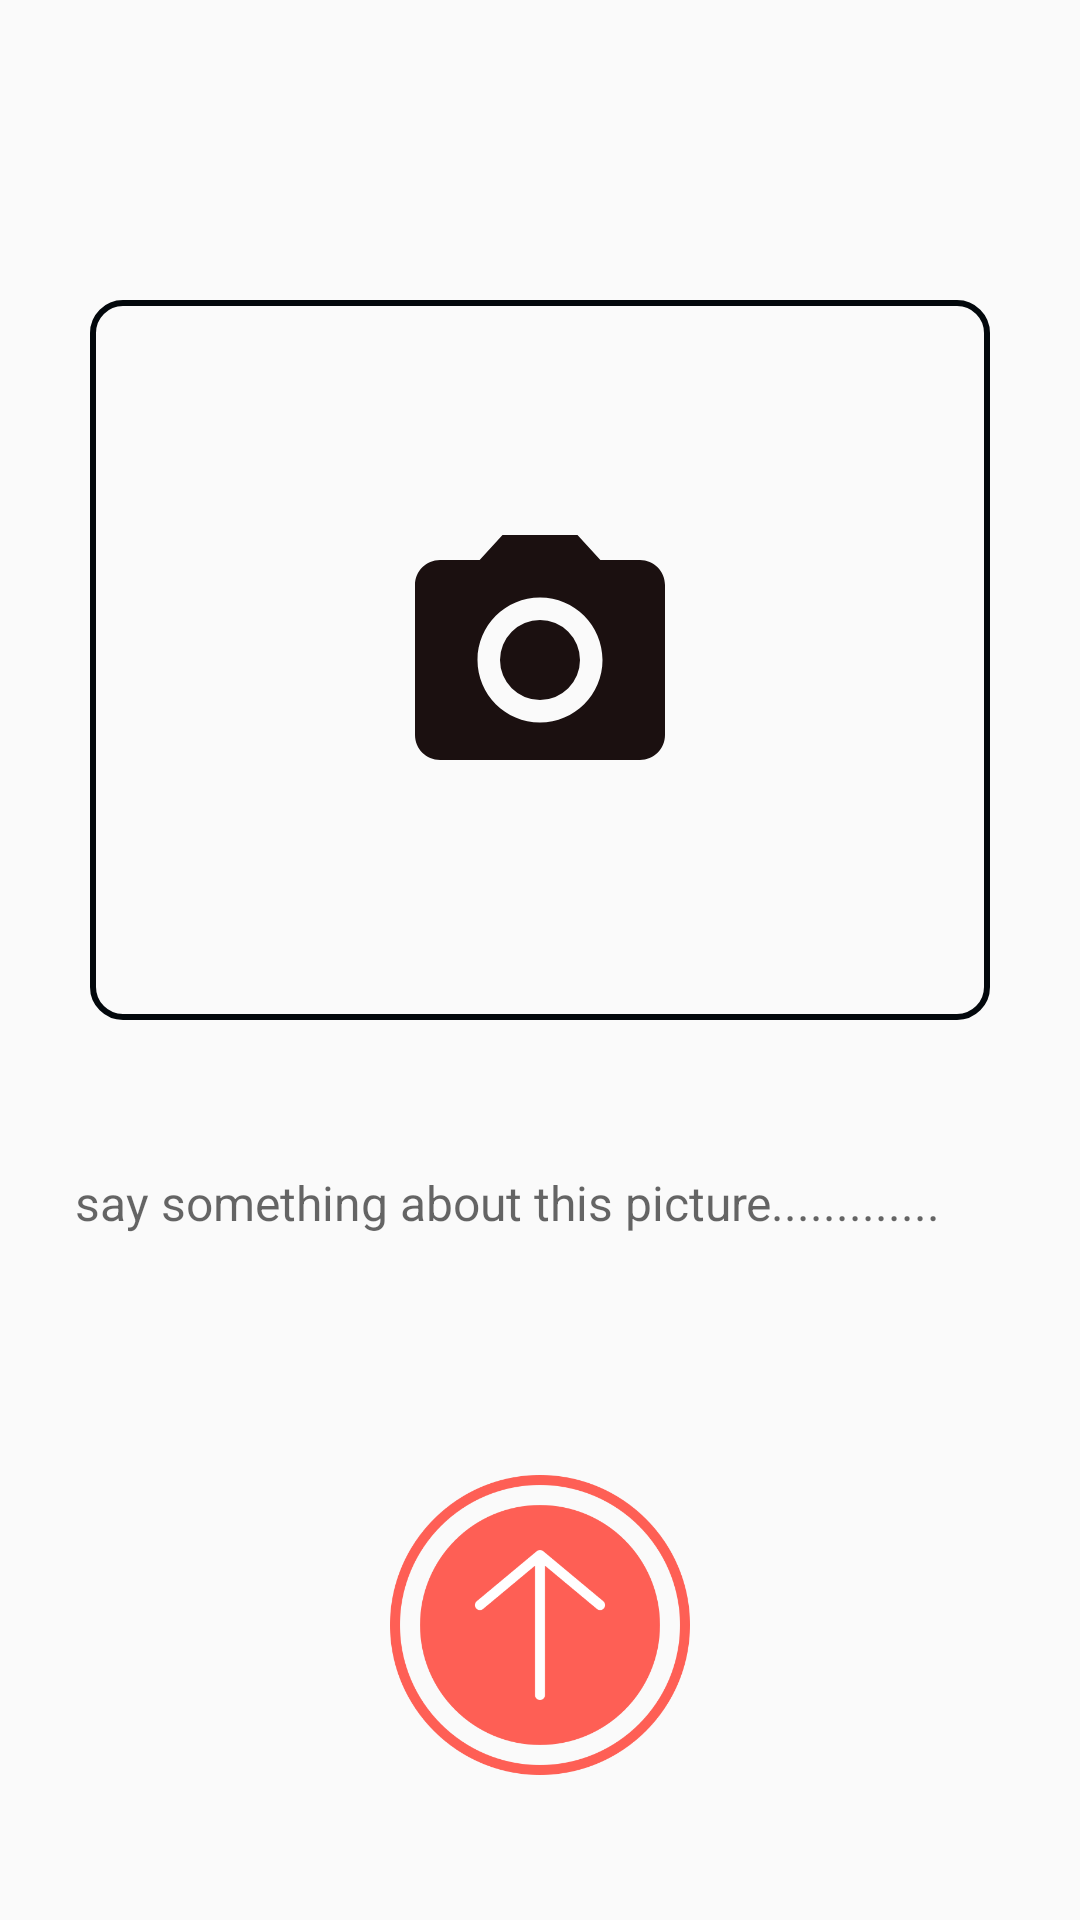

Named icons in this screenshot (1080 × 1920) and their centers, [x,y]:
photo camera: [540,647]
uploadpics: [540,1625]
